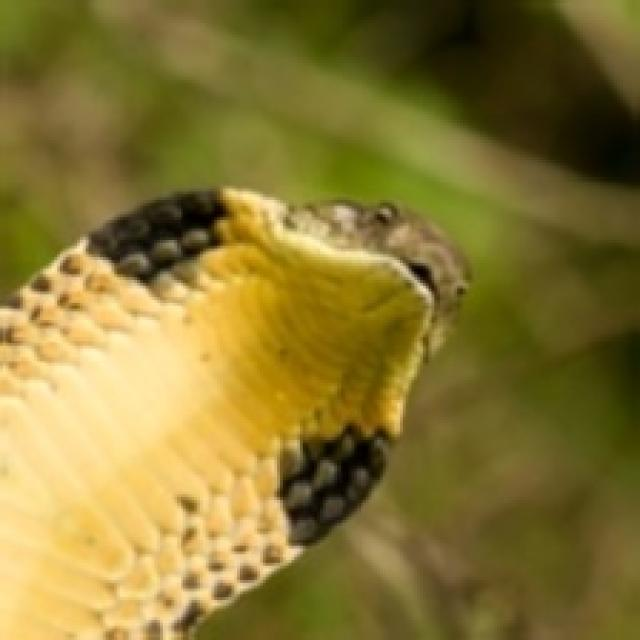king cobra: (0, 189, 463, 637)
